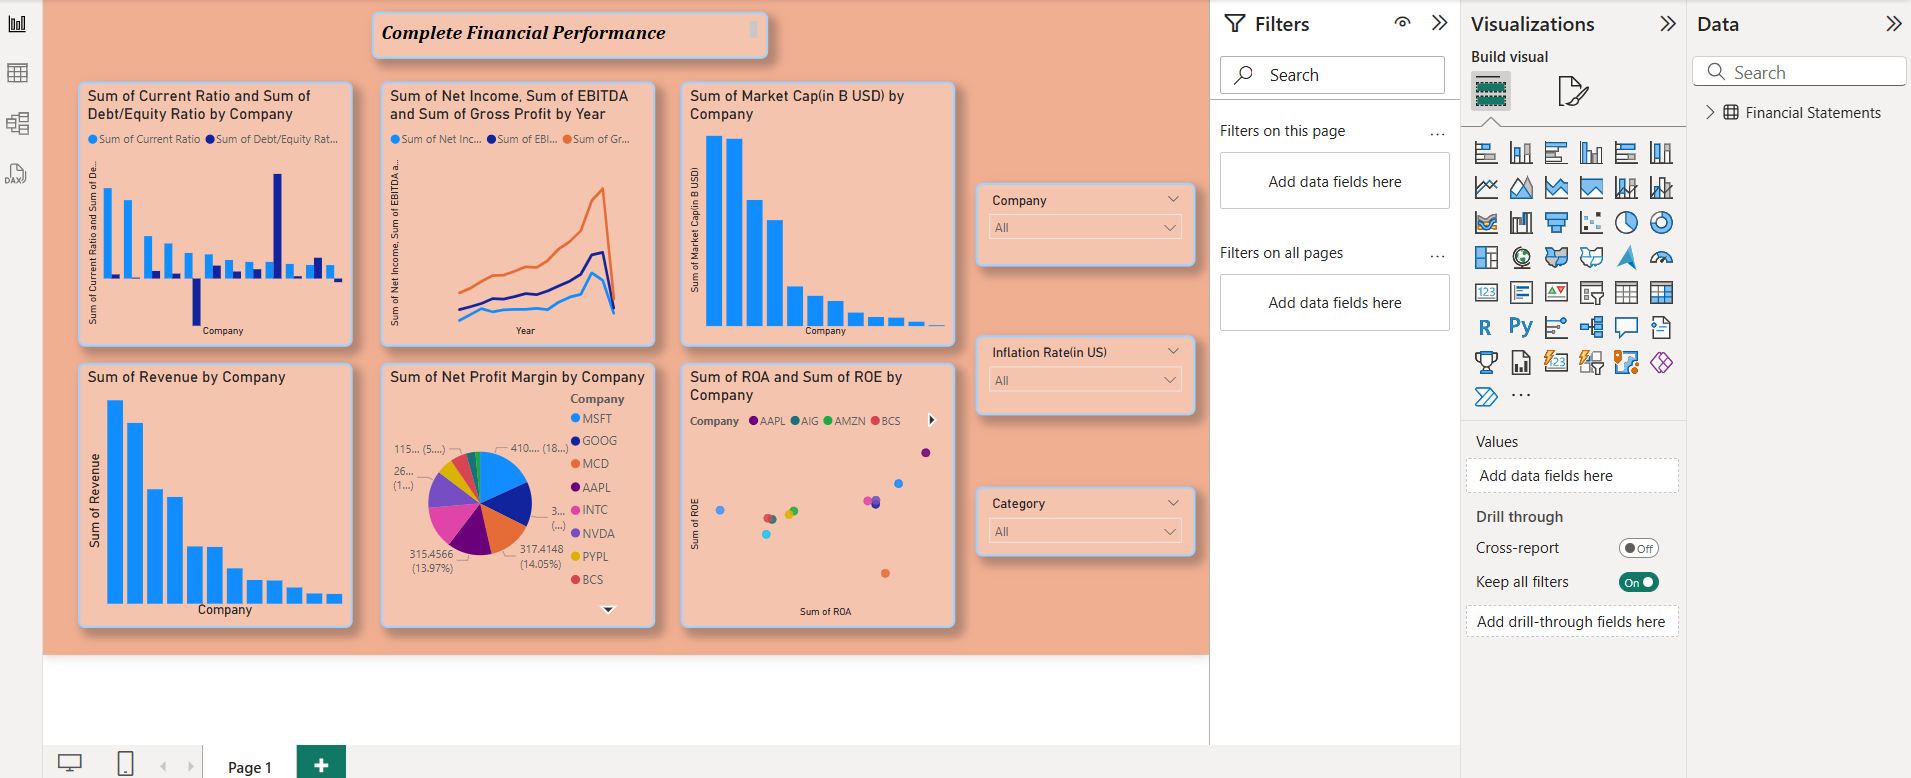

The page's visual inventory and layout, read from the dashboard file:
{"tool":"powerbi","page":{"name":"Page 1","canvas":[1280,720],"ordinal":0},"visuals":[{"type":"columnChart","fields":{"Category":["Financial Statements.Company "],"Y":["Sum(Financial Statements.Revenue)"]},"box":[38.4,399.3,301.9,290.9],"z":0},{"type":"columnChart","fields":{"Category":["Financial Statements.Company "],"Y":["Sum(Financial Statements.Market Cap(in B USD))"]},"box":[699.8,90.6,301.9,290.9],"z":1},{"type":"lineChart","fields":{"Category":["Financial Statements.Year"],"Y":["Sum(Financial Statements.Net Income)","Sum(Financial Statements.EBITDA)","Sum(Financial Statements.Gross Profit)"]},"box":[370.5,90.6,301.9,290.9],"z":2},{"type":"clusteredColumnChart","fields":{"Category":["Financial Statements.Company "],"Y":["Sum(Financial Statements.Current Ratio)","Sum(Financial Statements.Debt/Equity Ratio)"]},"box":[38.4,90.6,301.9,290.9],"z":3},{"type":"scatterChart","fields":{"Series":["Financial Statements.Company "],"X":["Sum(Financial Statements.ROA)"],"Y":["Sum(Financial Statements.ROE)"]},"box":[699.8,399.3,301.9,290.9],"z":4},{"type":"pieChart","fields":{"Category":["Financial Statements.Company "],"Y":["Sum(Financial Statements.Net Profit Margin)"]},"box":[370.5,399.3,301.9,290.9],"z":5},{"type":"slicer","fields":{"Values":["Financial Statements.Company "]},"box":[1023.7,201.7,241.5,91.9],"z":6},{"type":"slicer","fields":{"Values":["Financial Statements.Category"]},"box":[1023.7,535.2,241.5,76.8],"z":7},{"type":"slicer","fields":{"Values":["Financial Statements.Inflation Rate(in US)"]},"box":[1023.7,369.1,241.5,87.8],"z":8},{"type":"textbox","box":[360.9,13.7,435,52.1],"z":9}]}

Visuals, with their boxes on the page's 1280x720 design canvas (x1, y1, x2, y2). These are canvas units, not pixel positions in the 1911x778 screenshot, which may show the page scaled, cropped or inside an application window:
columnChart - Financial Statements.Company  x Sum(Financial Statements.Revenue): [left=38, top=399, right=340, bottom=690]
columnChart - Financial Statements.Company  x Sum(Financial Statements.Market Cap(in B USD)): [left=700, top=91, right=1002, bottom=382]
lineChart - Financial Statements.Year x Sum(Financial Statements.Net Income): [left=370, top=91, right=672, bottom=382]
clusteredColumnChart - Financial Statements.Company  x Sum(Financial Statements.Current Ratio): [left=38, top=91, right=340, bottom=382]
scatterChart - Financial Statements.Company  x Sum(Financial Statements.ROA): [left=700, top=399, right=1002, bottom=690]
pieChart - Financial Statements.Company  x Sum(Financial Statements.Net Profit Margin): [left=370, top=399, right=672, bottom=690]
slicer - Financial Statements.Company : [left=1024, top=202, right=1265, bottom=294]
slicer - Financial Statements.Category: [left=1024, top=535, right=1265, bottom=612]
slicer - Financial Statements.Inflation Rate(in US): [left=1024, top=369, right=1265, bottom=457]
textbox: [left=361, top=14, right=796, bottom=66]
